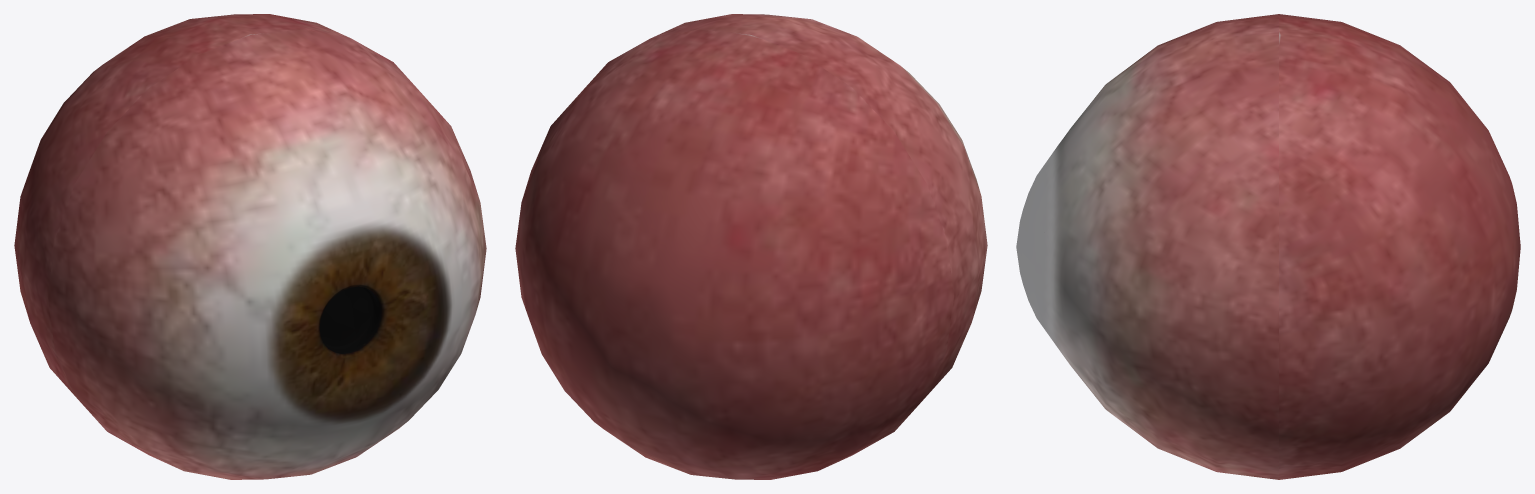
File: eye-7bc5b3e3.glb
3 views of the same model, side by side, from view 1: azimuth 30°, elevation 25°; view 2: azimuth 150°, elevation 25°; view 3: azimuth 270°, elevation 25° (orthographic).
Visible parts, largest first — view 1: Object_7; view 2: Object_7; view 3: Object_7.
Boxes of the visible parts, <box> form: Object_7: <box>14,14,486,479</box>; Object_7: <box>515,14,987,479</box>; Object_7: <box>1016,14,1520,479</box>.
Bounding box in the file's own units: 1.85 × 1.85 × 2.
1 material, 1 textured.
